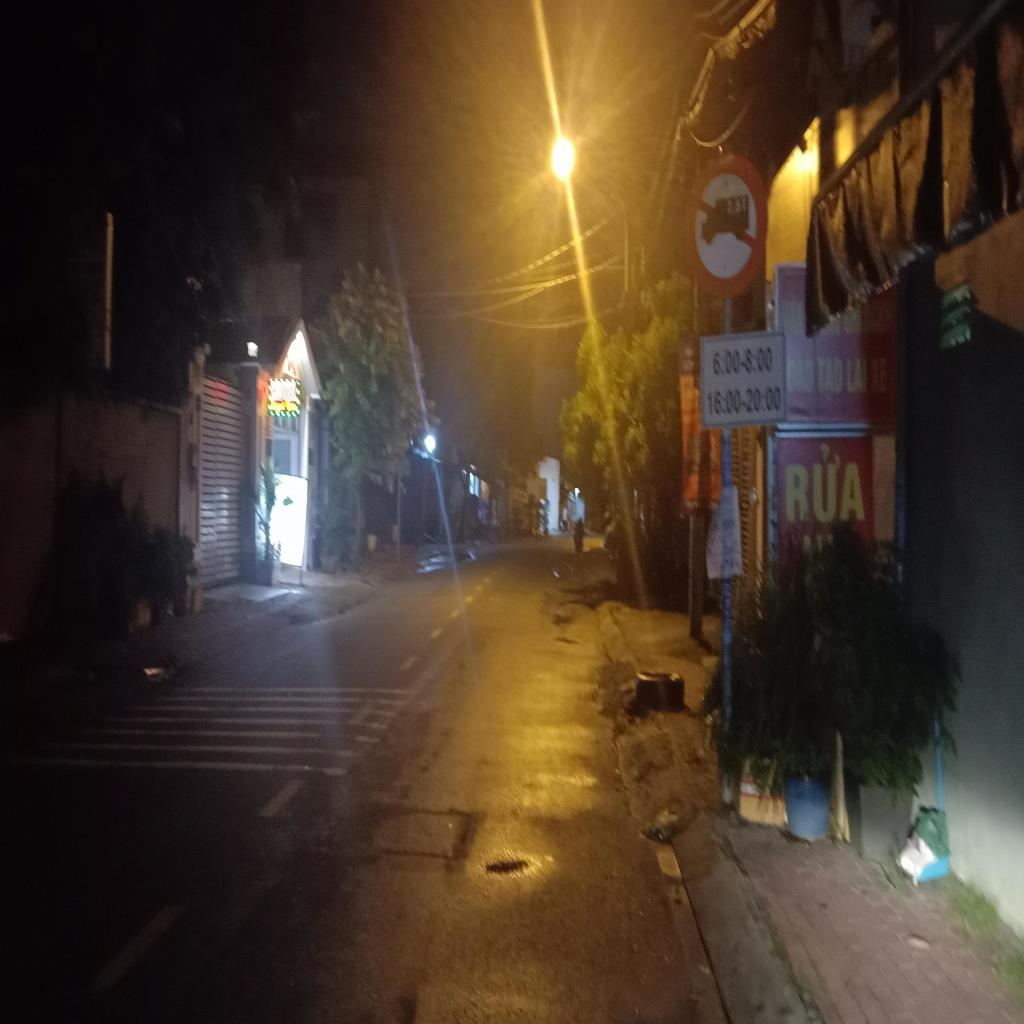cam_o_to_tai_trong_luong_qua_2-5t: (683, 152, 768, 298)
khac: (699, 334, 785, 427)
